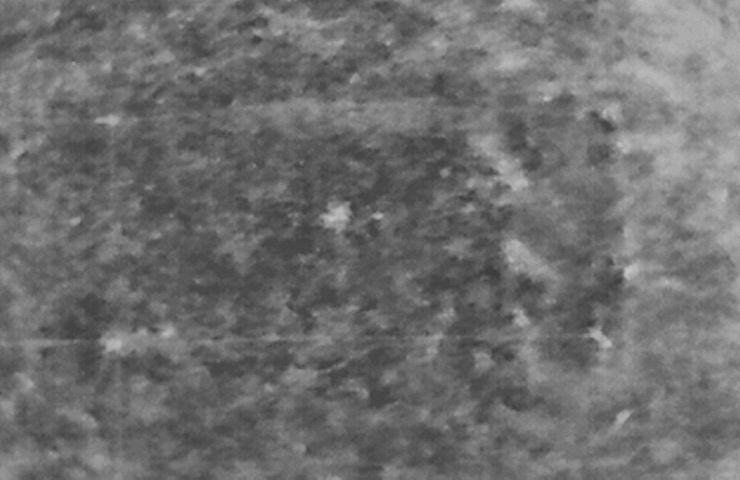landmines: (322, 201, 355, 234)
